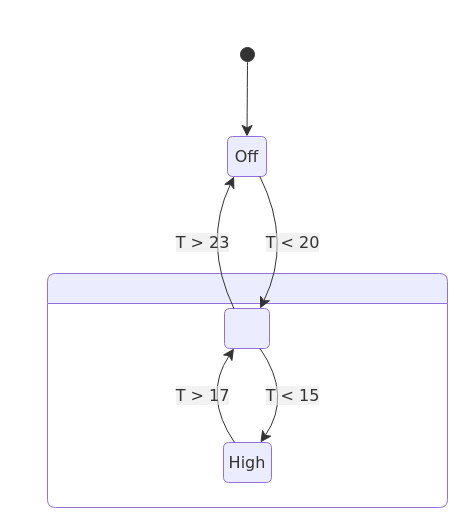
The diagram is 465 pixels wide and 525 high, and some of its shapes have lost their labels. Here are the shapes that lost their labels. From the top down, the box of each, then its label:
(224, 308, 270, 348): Low
(46, 272, 448, 508): Heater_System
